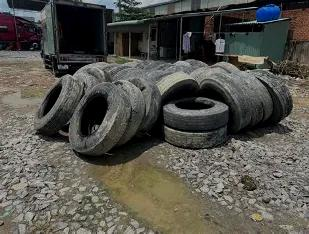ROAD_OBSTACLE: (33, 58, 295, 160), (68, 82, 135, 160), (160, 96, 230, 148), (33, 75, 82, 140)
